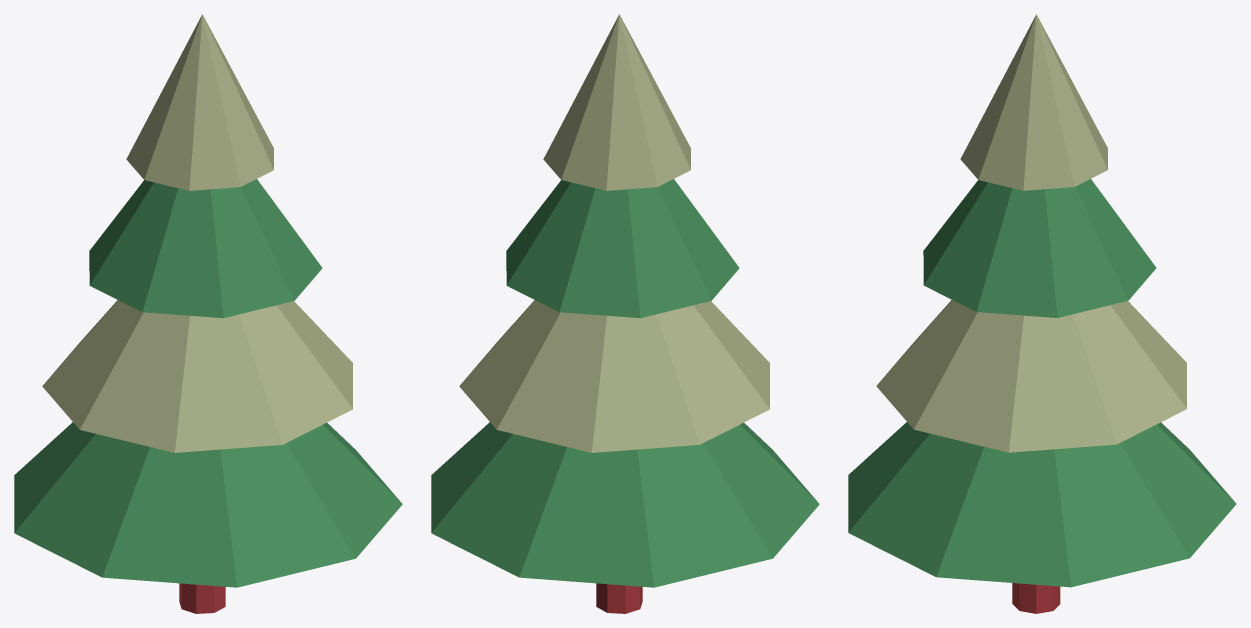
Rendered from tree_pine.glb.
3 renders of one model, left to right at view 1: azimuth 30°, elevation 25°; view 2: azimuth 150°, elevation 25°; view 3: azimuth 270°, elevation 25°, orthographic.
Parts seen in each view (by area): view 1: tree_pine_t0, tree_pine_t1, tree_pine_t2, tree_pine_t3, tree_pine; view 2: tree_pine_t0, tree_pine_t1, tree_pine_t2, tree_pine_t3, tree_pine; view 3: tree_pine_t0, tree_pine_t1, tree_pine_t2, tree_pine_t3, tree_pine.
Part boxes in pixels (left/top/right/bottom): tree_pine_t0: left=14, top=422, right=402, bottom=587; tree_pine_t1: left=42, top=300, right=352, bottom=452; tree_pine_t2: left=89, top=179, right=322, bottom=318; tree_pine_t3: left=126, top=14, right=273, bottom=190; tree_pine: left=179, top=583, right=225, bottom=613; tree_pine_t0: left=431, top=422, right=819, bottom=587; tree_pine_t1: left=459, top=300, right=769, bottom=452; tree_pine_t2: left=506, top=179, right=739, bottom=318; tree_pine_t3: left=543, top=14, right=690, bottom=190; tree_pine: left=596, top=583, right=642, bottom=613; tree_pine_t0: left=848, top=422, right=1236, bottom=587; tree_pine_t1: left=876, top=300, right=1186, bottom=452; tree_pine_t2: left=923, top=179, right=1156, bottom=317; tree_pine_t3: left=960, top=14, right=1107, bottom=190; tree_pine: left=1012, top=583, right=1060, bottom=613.
Size of the model in its own units: 1.97 by 3.25 by 1.94.
